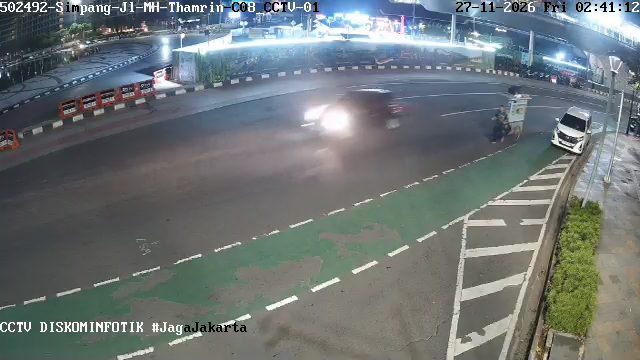Gerobak: (489, 88, 532, 141)
